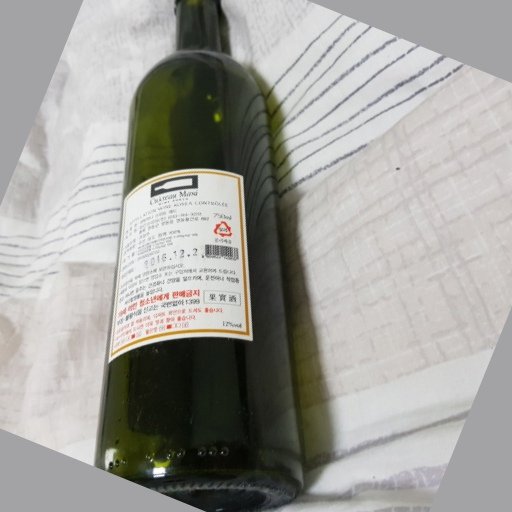Glass_2: (97, 2, 304, 512)
